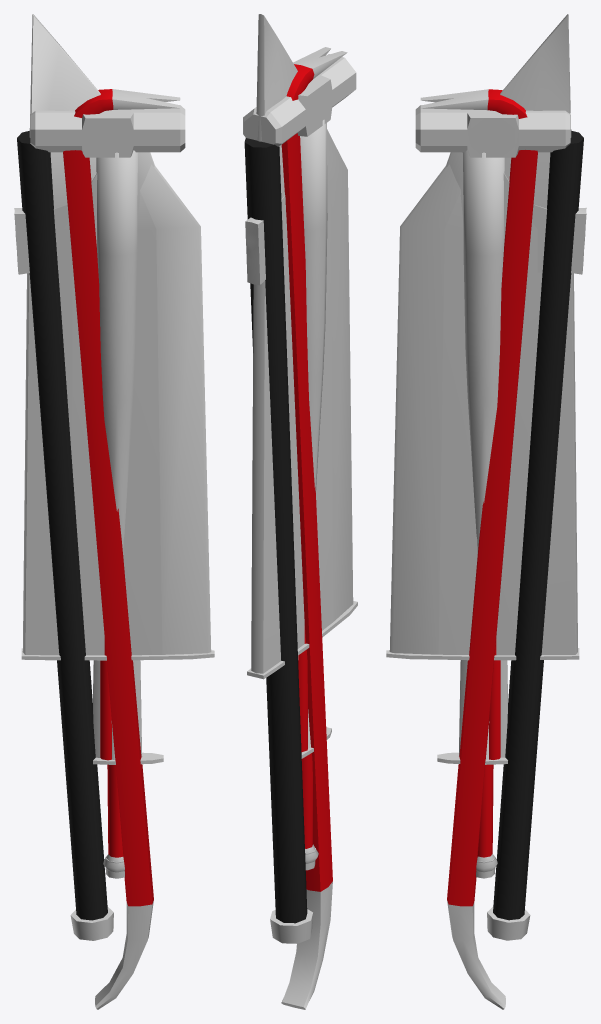
File: weapon.dae
The picture shows the model from 3 angles, left to right: view 1: azimuth 90°, elevation 25°; view 2: azimuth 150°, elevation 25°; view 3: azimuth 270°, elevation 25°; orthographic projection. The views are drawn at different scales.
Visible parts, largest first — view 1: unicycle_sword_anime, unicycle_axe, unicycle_crowbar, unicycle_bat, unicycle_sledge, unicycle_sword; view 2: unicycle_sword_anime, unicycle_axe, unicycle_crowbar, unicycle_bat, unicycle_sledge, unicycle_sword; view 3: unicycle_sword_anime, unicycle_axe, unicycle_crowbar, unicycle_bat, unicycle_sledge, unicycle_sword.
Boxes of the visible parts, x1,y1,x2,y2 form: unicycle_sword_anime: (21,14,214,878); unicycle_axe: (14,131,154,940); unicycle_crowbar: (63,89,180,1009); unicycle_bat: (96,150,138,872); unicycle_sledge: (30,105,185,760); unicycle_sword: (93,660,163,878); unicycle_sword_anime: (247,14,357,870); unicycle_axe: (244,138,313,943); unicycle_crowbar: (281,47,347,1009); unicycle_bat: (300,119,327,863); unicycle_sledge: (243,54,356,752); unicycle_sword: (298,656,331,867); unicycle_sword_anime: (386,14,579,878); unicycle_axe: (446,130,586,940); unicycle_crowbar: (420,89,537,1009); unicycle_bat: (462,150,504,872); unicycle_sledge: (415,105,570,759); unicycle_sword: (437,660,507,878).
Bounding box in the file's own units: 0.0467 × 0.2004 × 1.09.
